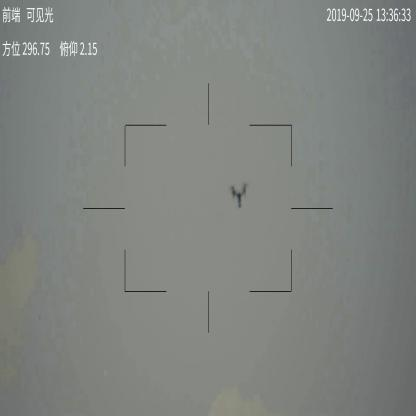uav: (229, 181, 249, 212)
